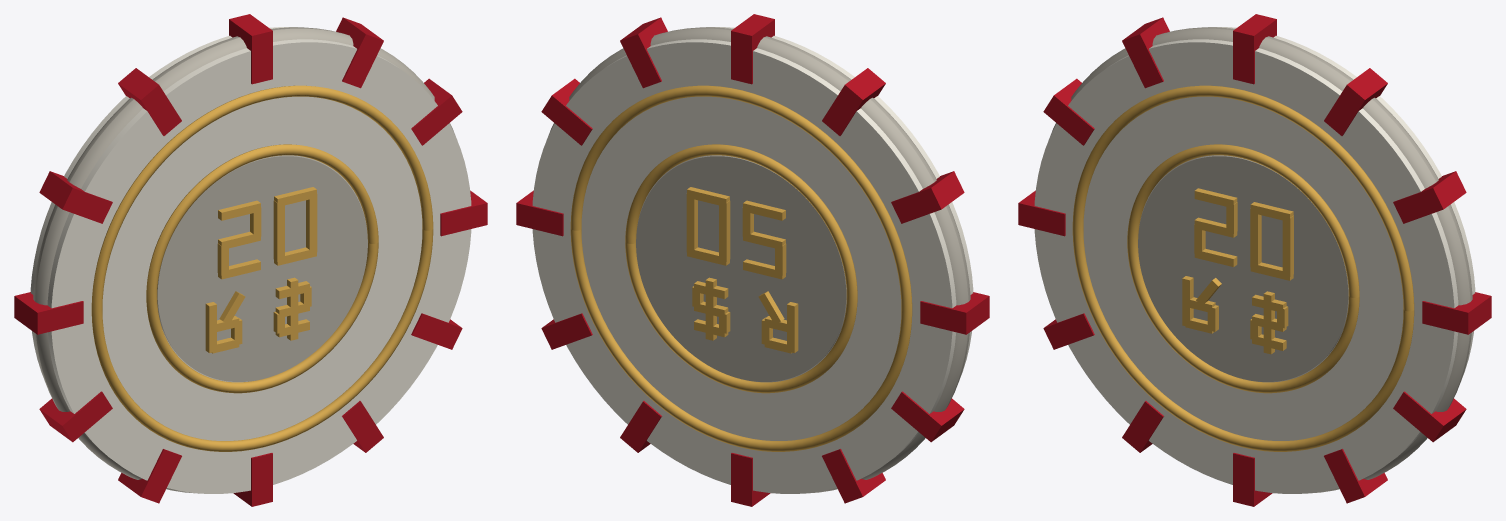
The model's file is branca-50.glb.
The picture shows the model from 3 angles, left to right: view 1: azimuth 30°, elevation 25°; view 2: azimuth 150°, elevation 25°; view 3: azimuth 330°, elevation 25°; orthographic projection.
Visible parts, largest first — view 1: Corpo_Branca, Centro_1, Anel_Dourado_1_1.18, Anel_Dourado_1_0.79, Borda_Externa, Inserto_7, Inserto_9, Inserto_10, Inserto_8, Inserto_6, Inserto_11, Inserto_5 (+7 smaller); view 2: Corpo_Branca, Centro_-1, Anel_Dourado_-1_1.18, Anel_Dourado_-1_0.79, Borda_Externa, Inserto_7, Inserto_9, Inserto_10, Inserto_8, Inserto_6, Inserto_11, Inserto_5 (+7 smaller); view 3: Corpo_Branca, Centro_1, Anel_Dourado_1_1.18, Anel_Dourado_1_0.79, Borda_Externa, Inserto_1, Inserto_11, Inserto_10, Inserto_12, Inserto_2, Inserto_9, Inserto_3 (+6 smaller).
Part boxes in pixels (x1,y1,x2,y2): Corpo_Branca: [30, 27, 471, 493]; Centro_1: [157, 155, 367, 381]; Anel_Dourado_1_1.18: [91, 85, 433, 451]; Anel_Dourado_1_0.79: [146, 144, 378, 393]; Borda_Externa: [33, 27, 455, 493]; Inserto_7: [14, 292, 83, 334]; Inserto_9: [118, 68, 181, 135]; Inserto_10: [229, 14, 272, 84]; Inserto_8: [39, 171, 112, 223]; Inserto_6: [39, 391, 112, 442]; Inserto_11: [336, 17, 383, 88]; Inserto_5: [118, 449, 181, 503]; Corpo_Branca: [532, 27, 973, 493]; Centro_-1: [636, 155, 846, 381]; Anel_Dourado_-1_1.18: [570, 85, 912, 451]; Anel_Dourado_-1_0.79: [625, 144, 857, 393]; Borda_Externa: [548, 27, 970, 493]; Inserto_7: [920, 292, 989, 334]; Inserto_9: [822, 68, 885, 135]; Inserto_10: [731, 14, 774, 84]; Inserto_8: [891, 171, 964, 223]; Inserto_6: [891, 391, 964, 442]; Inserto_11: [620, 17, 667, 88]; Inserto_5: [822, 449, 885, 503]; Corpo_Branca: [1034, 27, 1475, 493]; Centro_1: [1138, 155, 1348, 381]; Anel_Dourado_1_1.18: [1072, 85, 1414, 451]; Anel_Dourado_1_0.79: [1127, 144, 1359, 393]; Borda_Externa: [1050, 27, 1472, 493]; Inserto_1: [1422, 292, 1491, 334]; Inserto_11: [1324, 68, 1387, 135]; Inserto_10: [1233, 14, 1276, 84]; Inserto_12: [1393, 171, 1466, 223]; Inserto_2: [1393, 391, 1466, 442]; Inserto_9: [1122, 17, 1169, 88]; Inserto_3: [1324, 449, 1387, 503].
Size of the model in its own units: 3.21 by 3.21 by 0.385.
